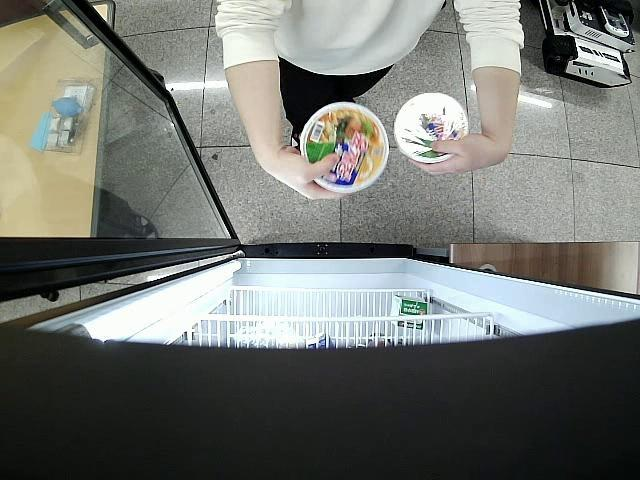09_yukGaeJang: (302, 103, 389, 192), (396, 92, 468, 164)
